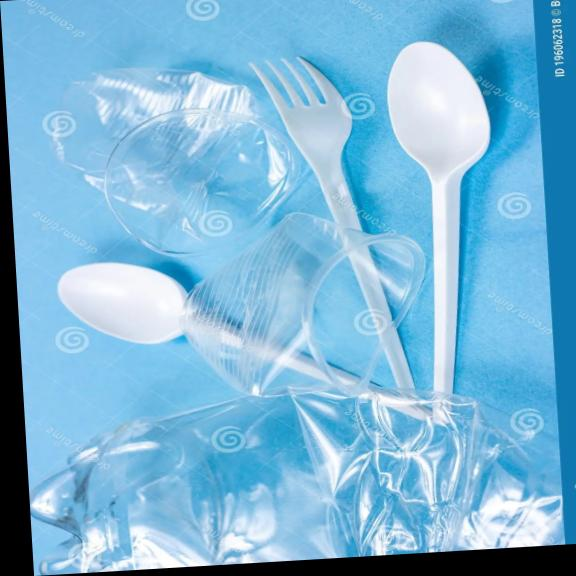Plastik: (388, 41, 490, 391), (251, 57, 362, 229), (58, 262, 187, 343)
